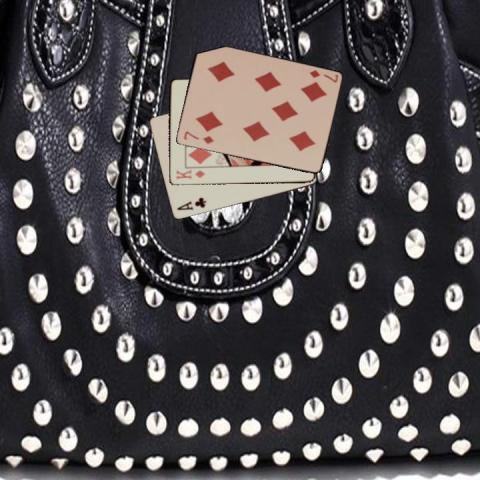7d: (180, 129, 214, 145), (307, 67, 339, 84)
Ac: (174, 195, 207, 212)
Kd: (173, 166, 206, 180)
